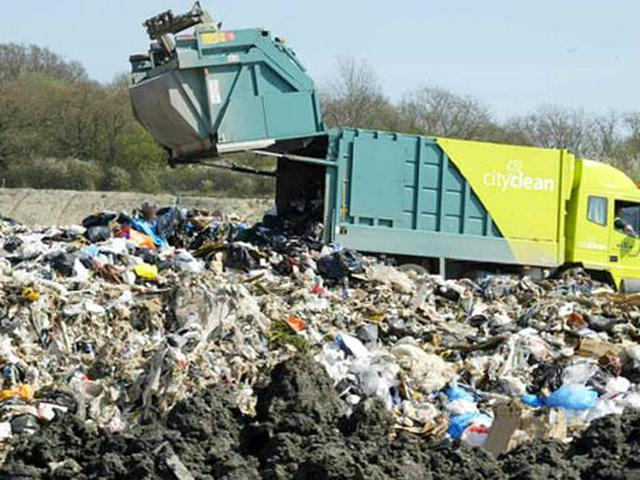garbage: (8, 274, 608, 412), (24, 227, 272, 278)
